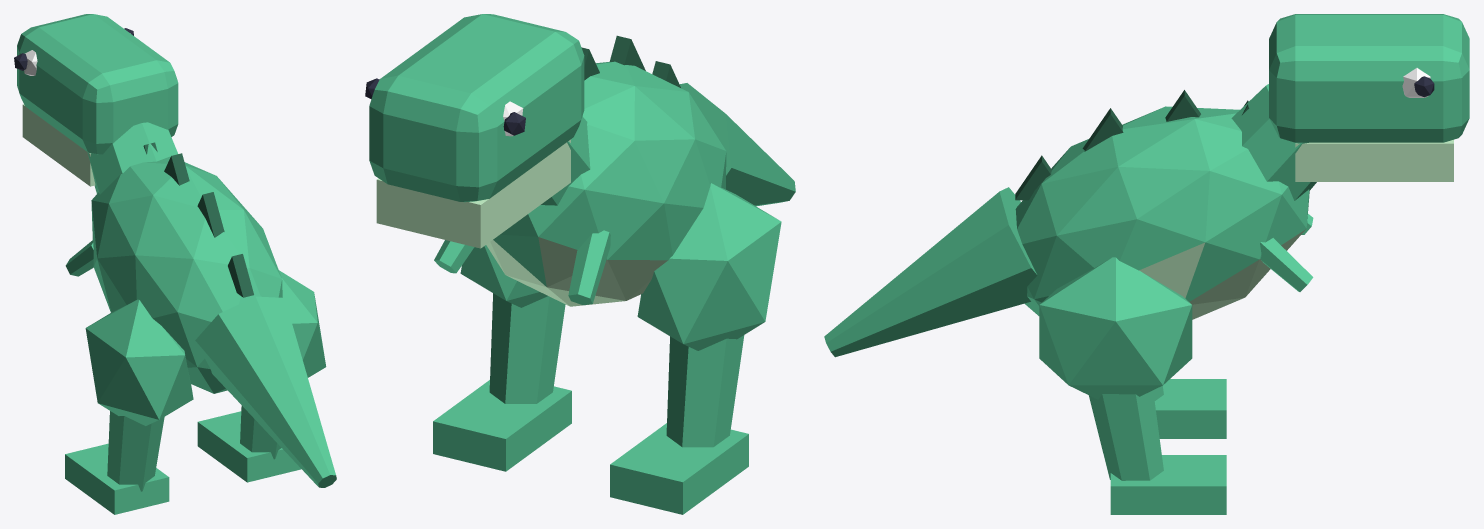
File: dinosaur.glb
The picture shows the model from 3 angles, left to right: view 1: azimuth 30°, elevation 25°; view 2: azimuth 150°, elevation 25°; view 3: azimuth 270°, elevation 25°; orthographic projection. The views are drawn at different scales.
Visible parts, largest first — view 1: Icosphere, Cube, Cone, Icosphere.001, Cube.002, Cube.003, Cone.002, Cone.001, Icosphere.004, Cube.001, Cone.004, prism.003 (+3 smaller); view 2: Icosphere, Cube, Icosphere.001, Cube.001, Cube.002, Cube.003, Cone.002, Cone.004, Cone, Icosphere.004, Cone.003, Cone.001 (+2 smaller); view 3: Icosphere, Cube, Icosphere.004, Cone, Cube.001, Cube.003, Cone.004, Cube.002, Cone.001, Cone.005, prism.003, prism.002.
Part boxes in pixels (x1,y1,x2,y2): Icosphere: [91, 156, 282, 393]; Cube: [17, 14, 178, 154]; Cone: [195, 296, 336, 487]; Icosphere.001: [85, 299, 193, 425]; Cube.002: [65, 443, 169, 514]; Cube.003: [197, 411, 301, 482]; Cone.002: [107, 411, 164, 491]; Cone.001: [87, 122, 177, 194]; Icosphere.004: [279, 270, 326, 377]; Cube.001: [22, 104, 95, 186]; Cone.004: [240, 405, 281, 459]; prism.003: [228, 254, 253, 297]; Icosphere: [486, 61, 726, 306]; Cube: [369, 14, 584, 202]; Icosphere.001: [637, 183, 781, 350]; Cube.001: [376, 139, 570, 248]; Cube.002: [610, 423, 748, 514]; Cube.003: [433, 380, 571, 471]; Cone.002: [666, 335, 744, 447]; Cone.004: [489, 293, 565, 403]; Cone: [679, 83, 795, 206]; Icosphere.004: [460, 245, 547, 307]; Cone.003: [568, 230, 610, 305]; Cone.001: [541, 116, 590, 205]; Icosphere: [1015, 106, 1309, 319]; Cube: [1269, 14, 1469, 142]; Icosphere.004: [1039, 257, 1192, 399]; Cone: [824, 187, 1037, 357]; Cube.001: [1295, 139, 1453, 181]; Cube.003: [1110, 455, 1226, 514]; Cone.004: [1089, 390, 1163, 480]; Cube.002: [1154, 379, 1226, 438]; Cone.001: [1231, 84, 1316, 200]; Cone.005: [1260, 238, 1313, 291]; prism.003: [1015, 155, 1051, 200]; prism.002: [1082, 108, 1123, 151].
Size of the model in its own units: 2.77 by 4.5 by 6.11.
